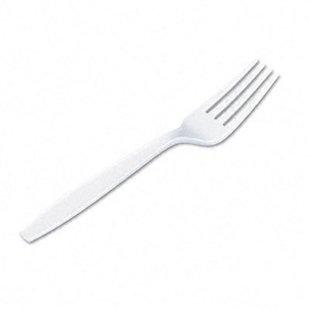Fork: (19, 59, 280, 244)
